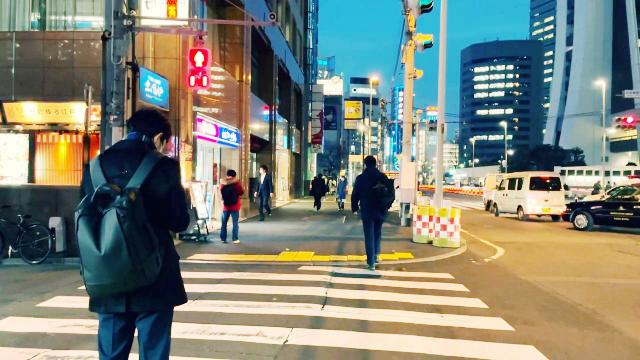berdiri: (82, 111, 181, 360), (216, 172, 244, 246)
berjalan: (352, 152, 396, 276)
